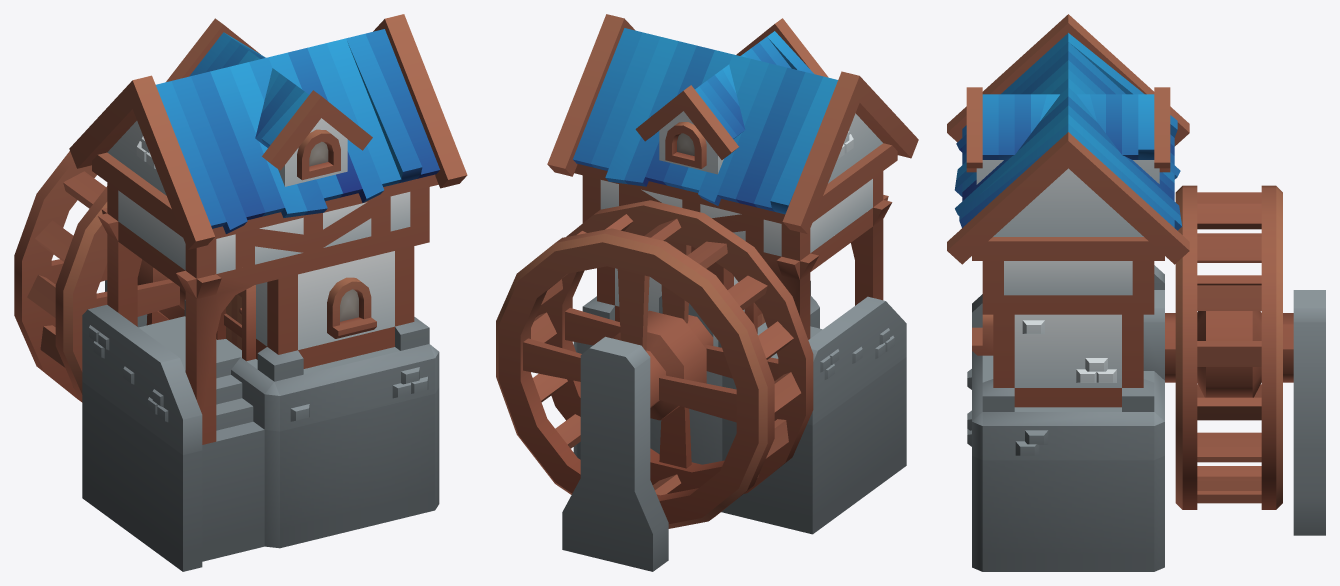
Rendered from building_watermill_blue.gltf.
3 renders of one model, left to right at view 1: azimuth 30°, elevation 25°; view 2: azimuth 150°, elevation 25°; view 3: azimuth 270°, elevation 25°, orthographic. The views are drawn at different scales.
Parts seen in each view (by area): view 1: building_watermill_blue, building_watermill_wheel_blue; view 2: building_watermill_blue, building_watermill_wheel_blue; view 3: building_watermill_blue, building_watermill_wheel_blue.
Boxes of the visible parts, bbox=[...] form: building_watermill_blue: bbox=[69, 14, 467, 571]; building_watermill_wheel_blue: bbox=[14, 151, 185, 402]; building_watermill_blue: bbox=[547, 14, 918, 571]; building_watermill_wheel_blue: bbox=[496, 200, 813, 528]; building_watermill_blue: bbox=[947, 14, 1325, 571]; building_watermill_wheel_blue: bbox=[1165, 185, 1293, 509].
Size of the model in its own units: 1.05 by 1.57 by 1.24.
Materials: 1 (1 with a texture image).
